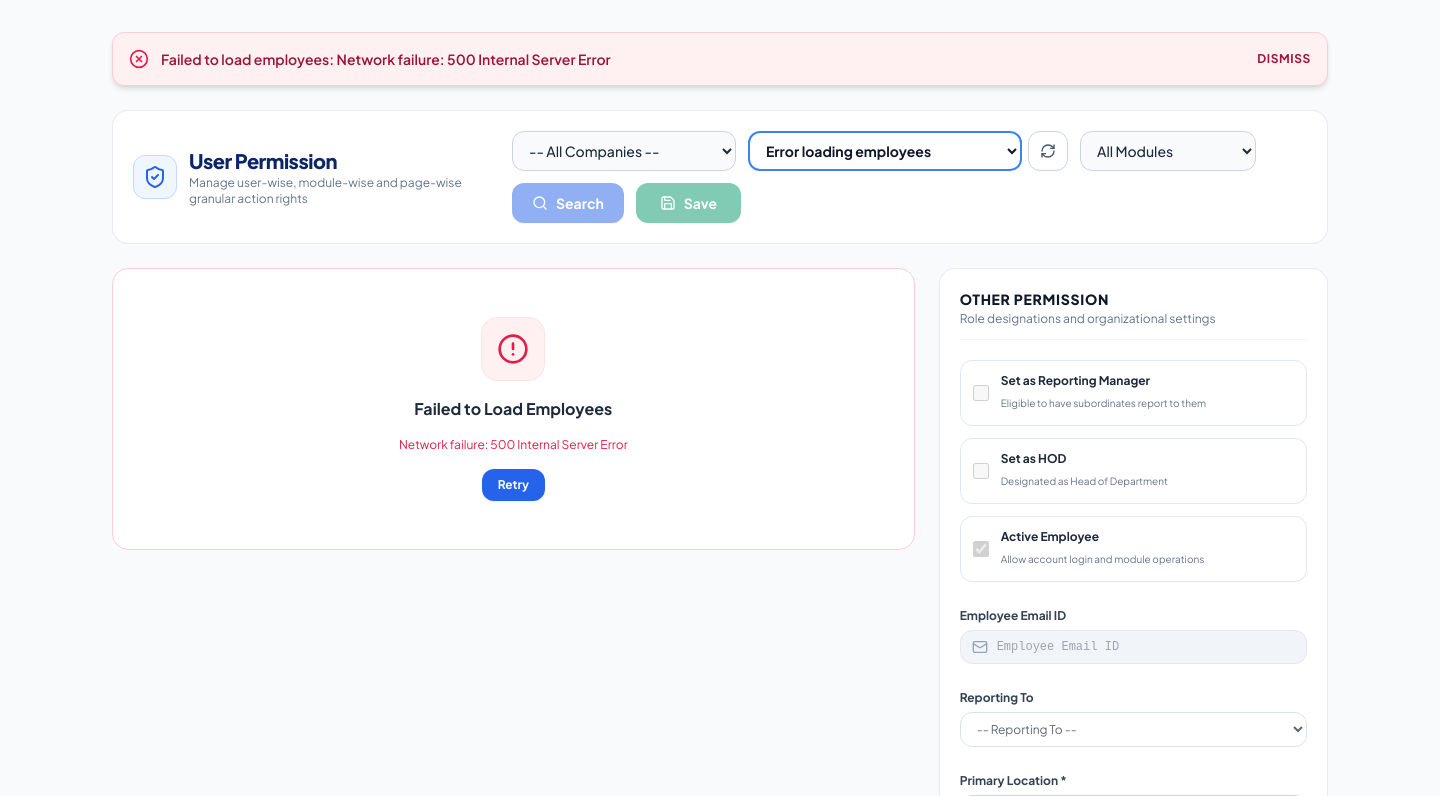
Scenario: Frontend UserPermissionsPage Component › displays distinct API error state with Retry button when employee fetch fails and retries successfully
Expected: the heading "Failed to Load Employees" is shown, [414,398,612,419]
Expected: the text "Network failure: 500" is shown, [161,50,611,68]
Note: Click Retry
Click the button "Retry" at (513, 485), box [482,469,545,501]
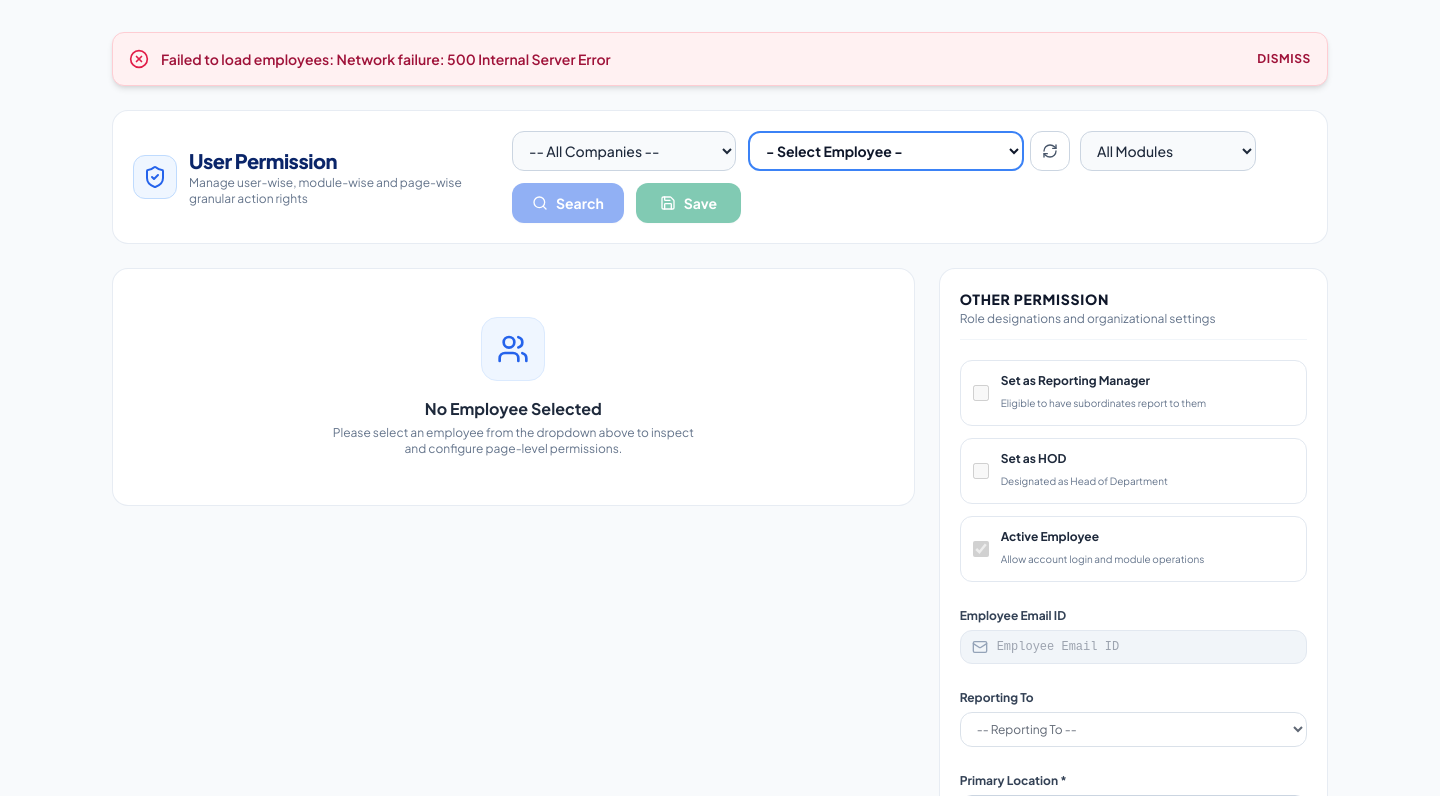
Expected: the heading "No Employee Selected" is shown, [425,398,602,419]
